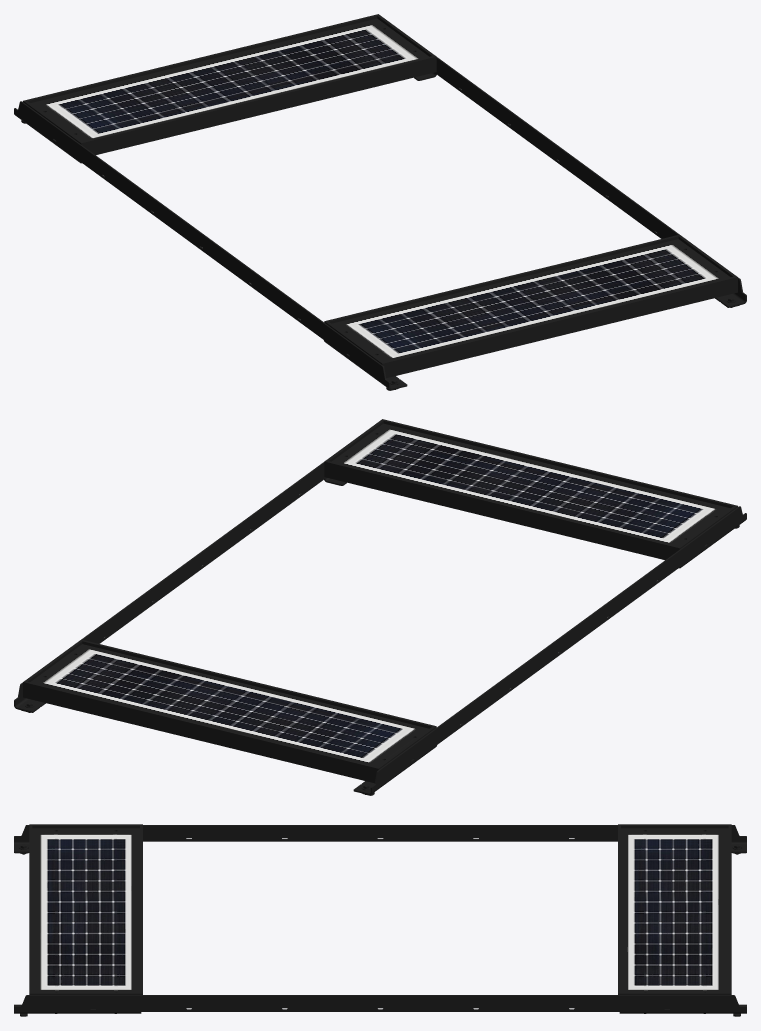
3 renders of one model, top to bottom at view 1: azimuth 30°, elevation 25°; view 2: azimuth 150°, elevation 25°; view 3: azimuth 270°, elevation 25°, orthographic. The views are drawn at different scales.
Visible parts, largest first — view 1: solar30; view 2: solar30; view 3: solar30.
Part boxes in pixels (x1,y1,x2,y2): solar30: [14, 14, 746, 390]; solar30: [14, 419, 746, 795]; solar30: [14, 824, 746, 1016].
Bounding box in the file's own units: 0.8585 × 0.0595 × 1.56.
Materials: 1 (1 with a texture image).
